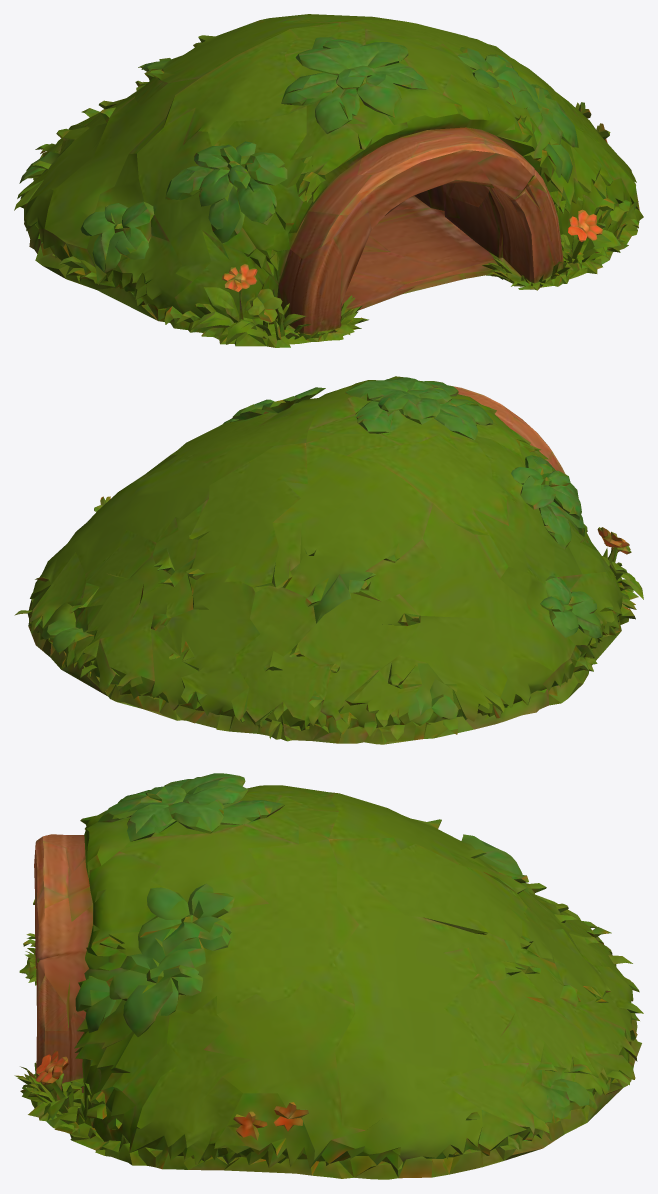
File: mossy-burrow-gpu.glb
3 views of the same model, one above another, from view 1: azimuth 30°, elevation 25°; view 2: azimuth 150°, elevation 25°; view 3: azimuth 270°, elevation 25° (orthographic). The views are drawn at different scales.
Parts seen in each view (by area): view 1: output_unwrapped; view 2: output_unwrapped; view 3: output_unwrapped.
Part boxes in pixels (bbox=[...]): output_unwrapped: bbox=[14, 14, 643, 347]; output_unwrapped: bbox=[14, 376, 643, 744]; output_unwrapped: bbox=[14, 773, 643, 1179].
Bounding box in the file's own units: 1.9 × 0.7158 × 1.74.
Materials: 1 (1 with a texture image).
